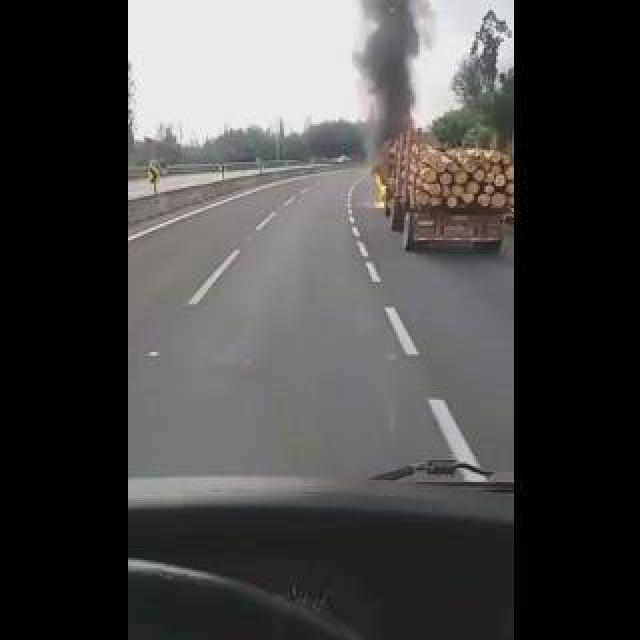Fire: (370, 170, 384, 208)
Smoke: (344, 2, 421, 138)
